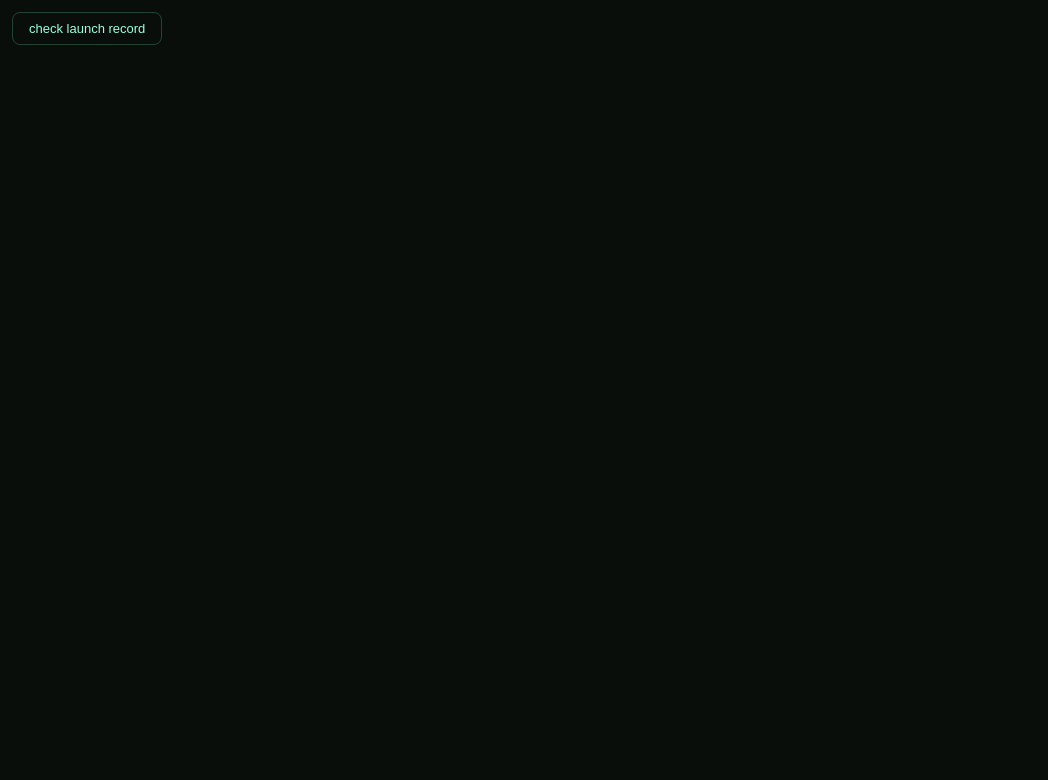
Test case: pratica di lancio: ingresso solo locale e anteprima › chiudendo e riaprendo il pannello l'anteprima torna raggiungibile
The width and height of the screenshot is (1048, 780).
Later steps or results of the test are not shown.
Click the button "check launch record". click: coordinates (87, 28)
box: [12,12,162,45]
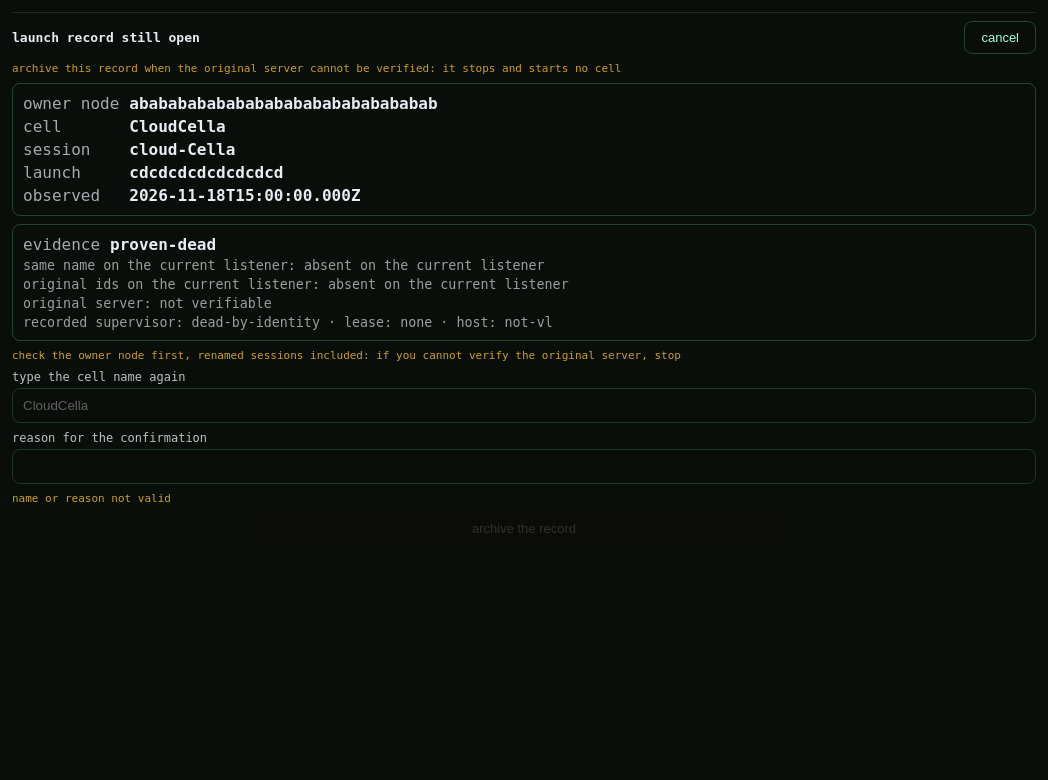
expect the text "proven-dead" is shown: met, box [110,235,216,254]
